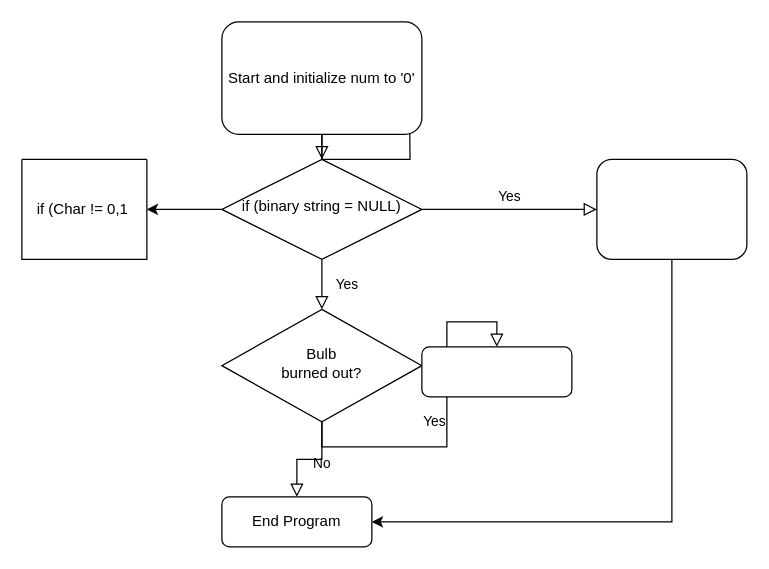
This 769x569 diagram has some shape labels left out. The box of each missing label's shape, as (x1, y1, x2, y2) in pixels:
Replace Bulb: (421, 346, 572, 397)
Return binary number: (596, 158, 747, 259)
